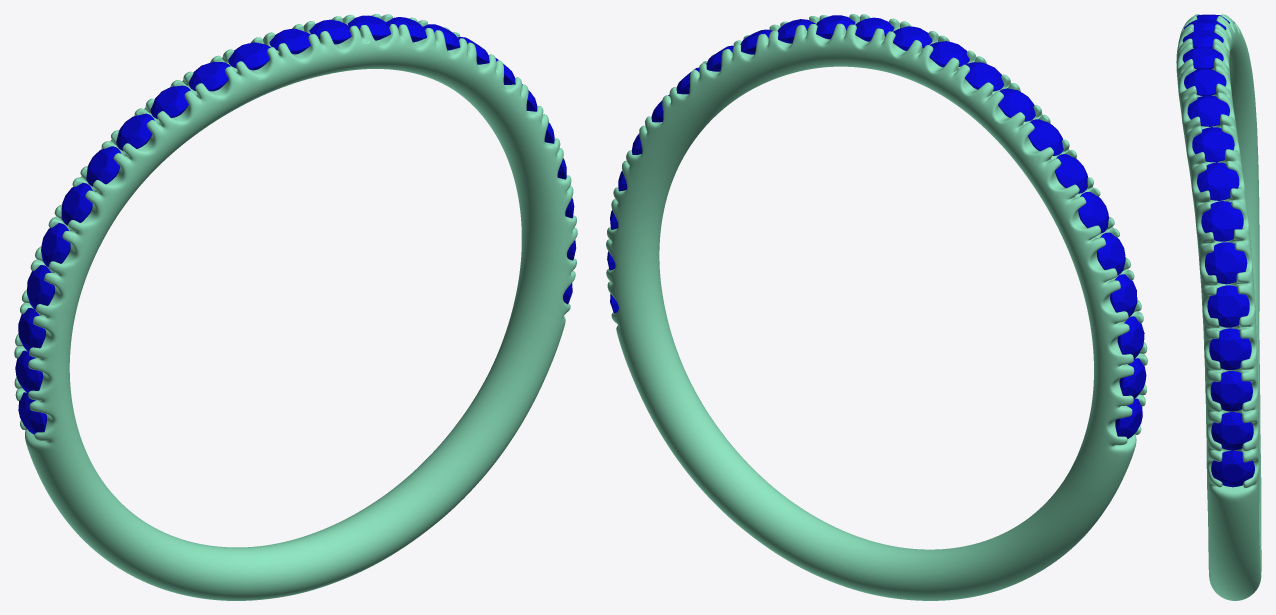
3 renders of one model, left to right at view 1: azimuth 30°, elevation 25°; view 2: azimuth 150°, elevation 25°; view 3: azimuth 270°, elevation 25°, orthographic. The views are drawn at different scales.
Parts seen in each view (by area): view 1: Metal03, Diamond_Band.017, Diamond_Band.016, Diamond_Band.015, Diamond_Band.018, Diamond_Band.014, Diamond_Band.013, Diamond_Band.019, Diamond_Band.012, Diamond_Band.020, Diamond_Band.021; view 2: Metal03, Diamond_Band.016, Diamond_Band.015, Diamond_Band.017, Diamond_Band.018, Diamond_Band.014, Diamond_Band.019, Diamond_Band.013, Diamond_Band.020, Diamond_Band.012; view 3: Metal03, Diamond_Band.002, Diamond_Band.005, Diamond_Band.006, Diamond_Band.007, Diamond_Band.004, Diamond_Band.003, Diamond_Band.008, Diamond_Band.022, Diamond_Band.009, Diamond_Band.010, Diamond_Band.011 (+3 smaller).
Part boxes in pixels (box(x1,y1,x2,y2)): Metal03: box(14, 14, 577, 600); Diamond_Band.017: box(61, 182, 92, 225); Diamond_Band.016: box(86, 146, 121, 186); Diamond_Band.015: box(116, 113, 154, 151); Diamond_Band.018: box(41, 223, 70, 266); Diamond_Band.014: box(150, 85, 190, 119); Diamond_Band.013: box(188, 61, 230, 91); Diamond_Band.019: box(27, 265, 55, 309); Diamond_Band.012: box(228, 42, 270, 70); Diamond_Band.020: box(18, 308, 45, 352); Diamond_Band.021: box(15, 350, 43, 393); Metal03: box(606, 14, 1147, 600); Diamond_Band.016: box(1055, 154, 1087, 193); Diamond_Band.015: box(1028, 119, 1063, 155); Diamond_Band.017: box(1078, 192, 1108, 233); Diamond_Band.018: box(1097, 232, 1125, 275); Diamond_Band.014: box(998, 88, 1035, 121); Diamond_Band.019: box(1110, 274, 1137, 317); Diamond_Band.013: box(965, 62, 1004, 91); Diamond_Band.020: box(1117, 316, 1144, 359); Diamond_Band.012: box(929, 41, 969, 67); Metal03: box(1176, 14, 1261, 600); Diamond_Band.002: box(1207, 285, 1249, 327); Diamond_Band.005: box(1209, 328, 1251, 370); Diamond_Band.006: box(1205, 242, 1247, 284); Diamond_Band.007: box(1201, 201, 1243, 241); Diamond_Band.004: box(1210, 371, 1252, 411); Diamond_Band.003: box(1211, 412, 1253, 450); Diamond_Band.008: box(1197, 162, 1239, 200); Diamond_Band.022: box(1211, 450, 1254, 487); Diamond_Band.009: box(1192, 127, 1234, 162); Diamond_Band.010: box(1187, 95, 1229, 126); Diamond_Band.011: box(1184, 68, 1226, 96).
Size of the model in its own units: 20.68 by 20.76 by 3.01.
